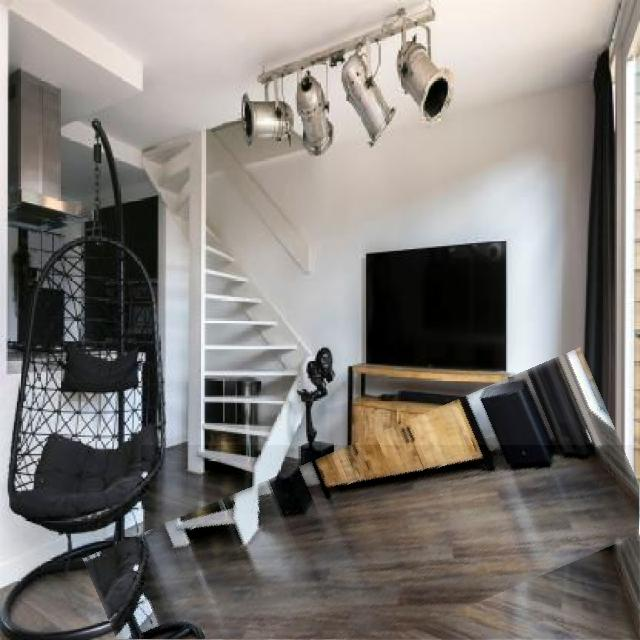floor: (141, 446, 640, 640)
